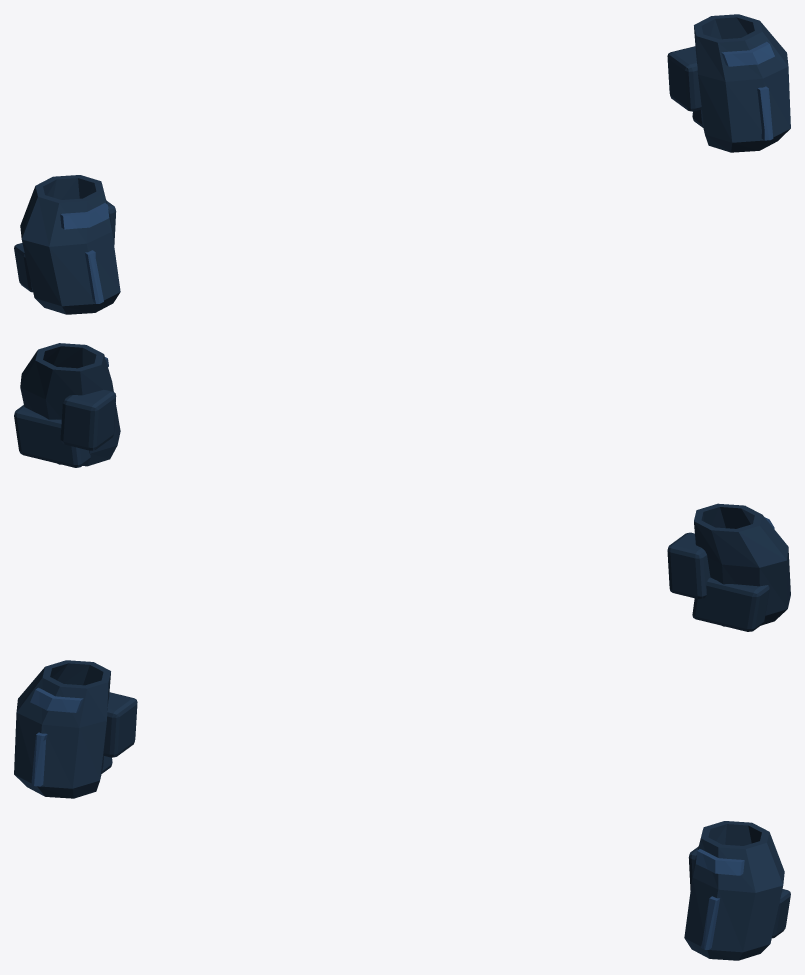
Rendered from cloth_hands-female.glb.
The picture shows the model from 3 angles, top to bottom: view 1: azimuth 30°, elevation 25°; view 2: azimuth 150°, elevation 25°; view 3: azimuth 330°, elevation 25°; orthographic projection.
Parts seen in each view (by area): view 1: Block hand armor -1, Block hand armor 1, Block thumb armor 1, Glove turned wrist seam -1, Glove turned wrist seam 1, Glove back seam 1, Glove back seam -1; view 2: Block hand armor -1, Block hand armor 1, Block hand curl armor -1, Block thumb armor 1, Block hand curl armor 1, Block thumb armor -1; view 3: Block hand armor 1, Block hand armor -1, Block thumb armor -1, Glove turned wrist seam -1, Glove turned wrist seam 1, Glove back seam -1, Glove back seam 1.
Boxes of the visible parts, x1,y1,x2,y2 form: Block hand armor -1: (20,175,120,314); Block hand armor 1: (694,14,790,152); Block thumb armor 1: (667,46,701,111); Glove turned wrist seam -1: (60,203,109,229); Glove turned wrist seam 1: (721,41,774,66); Glove back seam 1: (757,86,773,140); Glove back seam -1: (85,250,103,303); Block hand armor -1: (694,503,790,626); Block hand armor 1: (20,343,120,466); Block hand curl armor -1: (692,577,769,631); Block thumb armor 1: (60,389,116,450); Block hand curl armor 1: (14,405,90,467); Block thumb armor -1: (667,532,710,598); Block hand armor 1: (684,821,784,960); Block hand armor -1: (14,660,110,798); Block thumb armor -1: (103,692,137,757); Glove turned wrist seam -1: (30,687,83,712); Glove turned wrist seam 1: (696,849,744,875); Glove back seam -1: (31,732,47,786); Glove back seam 1: (701,896,719,949).
Size of the model in its own units: 3.93 by 0.5018 by 0.4884.
